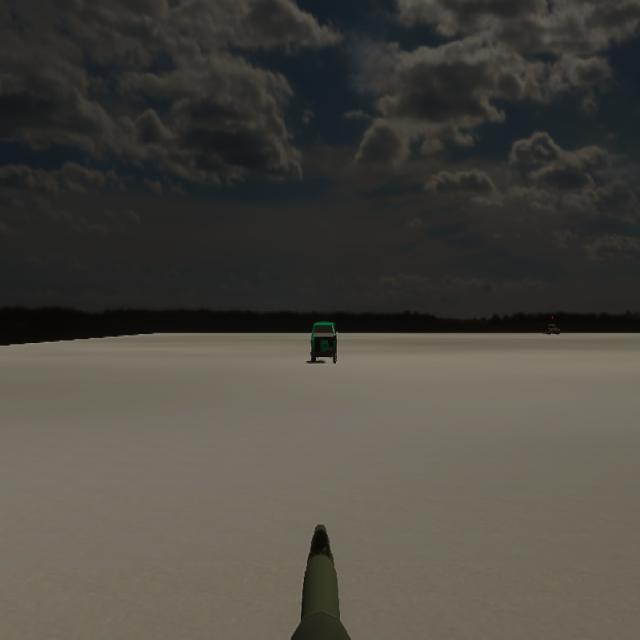green_car: (306, 321, 338, 364)
